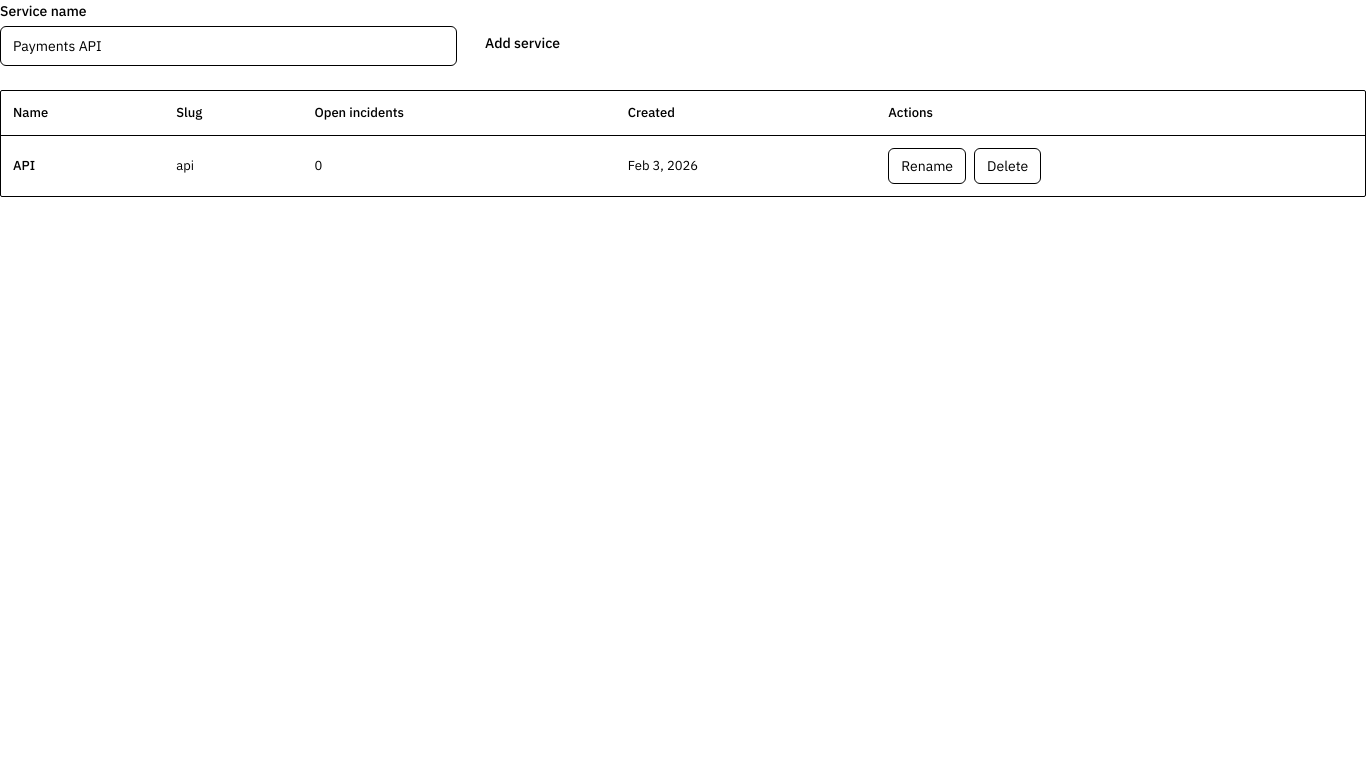
renaming › opens prefilled, saves the new name, and refreshes
Click the button "Rename". click: click(927, 166)
box: [888,148,966,184]
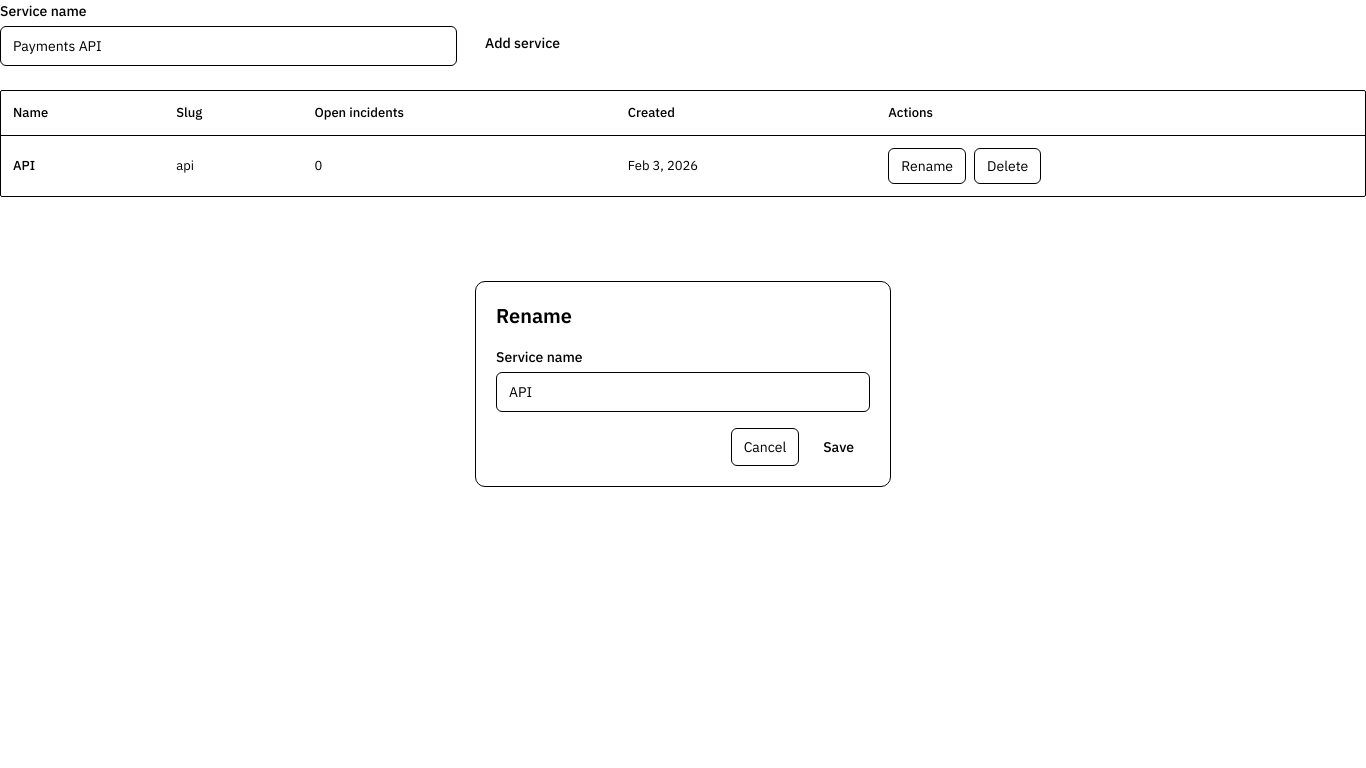
Check: the field labelled "Service name" holds "API"
Replace the text in the field labelled "Service name" with "API v2". click: (683, 392)
box: [496,372,870,412]
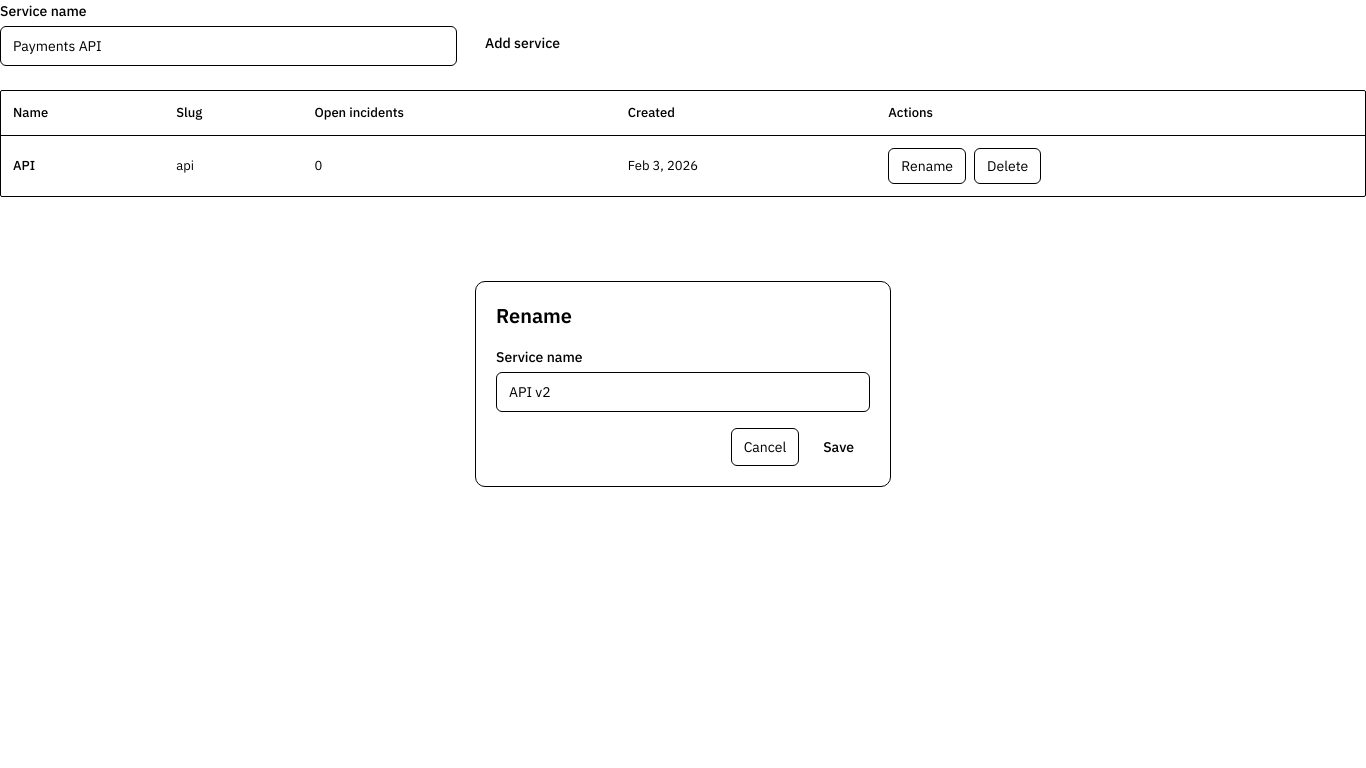
Click the button "Save". click: click(839, 447)
box: [807,428,870,466]
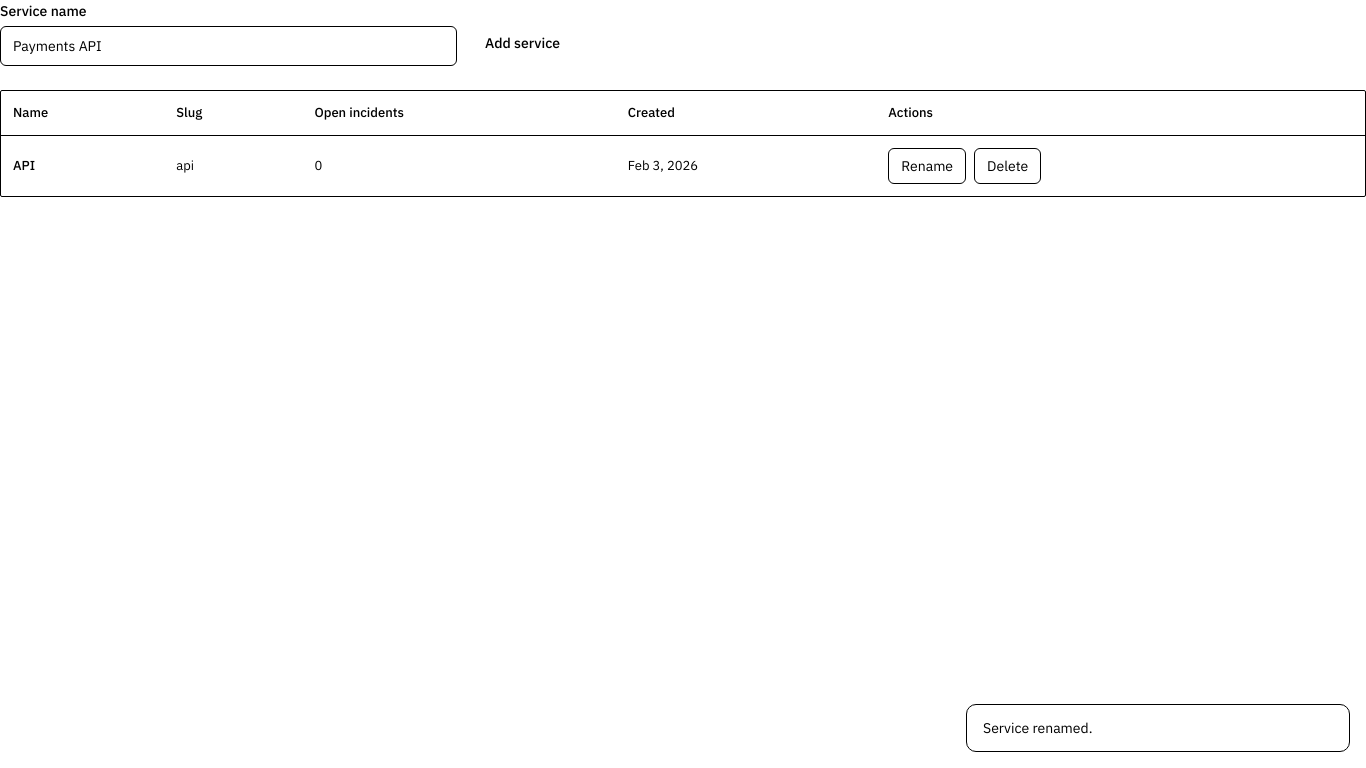
Check: the dialog is gone
